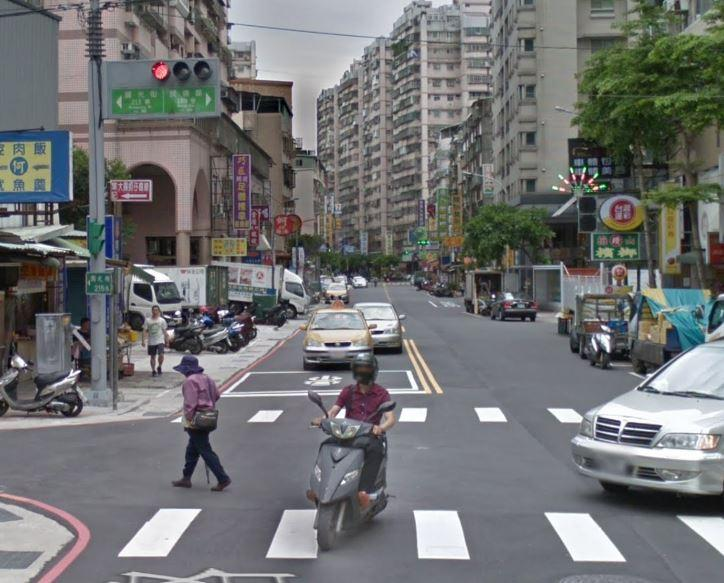red_traffic_light: (148, 58, 212, 83)
